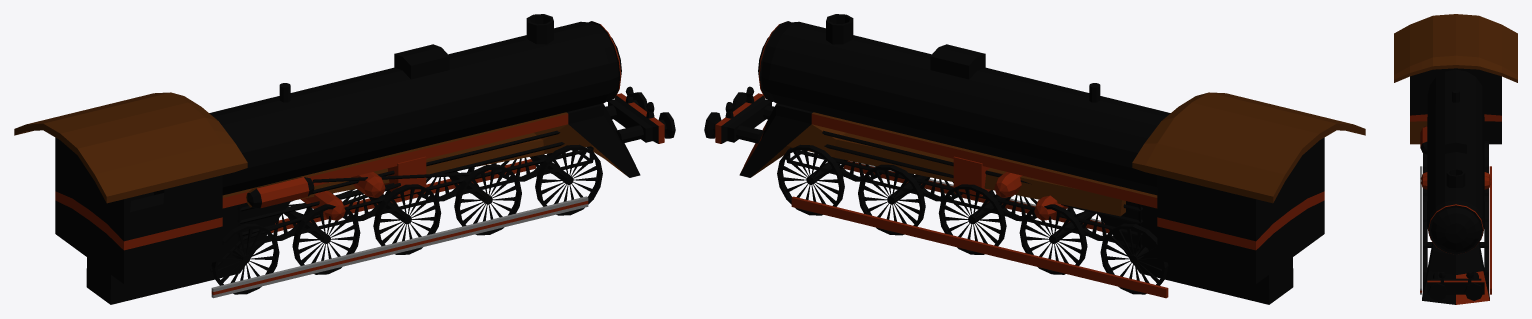
Rendered from locomotive.gltf.
3 views of the same model, side by side, from view 1: azimuth 30°, elevation 25°; view 2: azimuth 150°, elevation 25°; view 3: azimuth 270°, elevation 25° (orthographic). The views are drawn at different scales.
Visible parts, largest first — view 1: Sphere, Cube.005, Cube.002, Cube.003, Cylinder.002, Cylinder.003, Cylinder.004, Cylinder, Cylinder.005, Cube, Cylinder.001, Cube.001; view 2: Sphere, Cube.005, Cube.002, Cube.003, Cylinder.004, Cylinder.003, Cylinder, Cylinder.002, Cylinder.005, Cylinder.001, Cube; view 3: Sphere, Cylinder, Cube.005, Cylinder.002, Cylinder.003, Cylinder.004, Cube, Cylinder.001, Cylinder.005.
Boxes of the visible parts, box(x1,y1,x2,y2) form: Sphere: box(14, 14, 640, 283); Cube.005: box(211, 159, 588, 298); Cube.002: box(86, 193, 290, 304); Cube.003: box(237, 130, 593, 248); Cylinder.002: box(491, 144, 602, 215); Cylinder.003: box(417, 164, 521, 235); Cylinder.004: box(332, 184, 441, 254); Cylinder: box(605, 86, 675, 143); Cylinder.005: box(266, 200, 360, 274); Cube: box(301, 156, 426, 220); Cylinder.001: box(211, 223, 279, 294); Cube.001: box(210, 172, 471, 271); Sphere: box(739, 14, 1365, 283); Cube.005: box(791, 160, 1168, 298); Cube.002: box(1098, 201, 1293, 304); Cube.003: box(786, 130, 1142, 248); Cylinder.004: box(938, 184, 1037, 254); Cylinder.003: box(858, 164, 962, 235); Cylinder: box(704, 86, 774, 143); Cylinder.002: box(777, 144, 884, 215); Cylinder.005: box(1019, 204, 1113, 274); Cylinder.001: box(1100, 223, 1168, 294); Cube: box(953, 156, 1068, 220); Sphere: box(1394, 14, 1517, 304); Cylinder: box(1427, 271, 1484, 300); Cube.005: box(1420, 166, 1491, 294); Cylinder.002: box(1423, 246, 1488, 291); Cylinder.003: box(1423, 220, 1488, 247); Cylinder.004: box(1423, 193, 1488, 219); Cube: box(1420, 172, 1491, 189); Cylinder.001: box(1423, 141, 1488, 167); Cylinder.005: box(1423, 167, 1488, 193).
Bounding box in the file's own units: 6.69 × 1.96 × 1.8.
